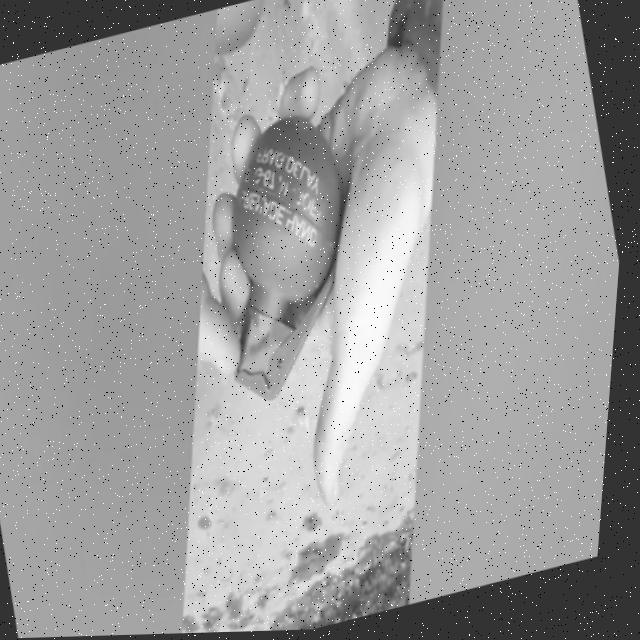grenade: (168, 97, 417, 423)
